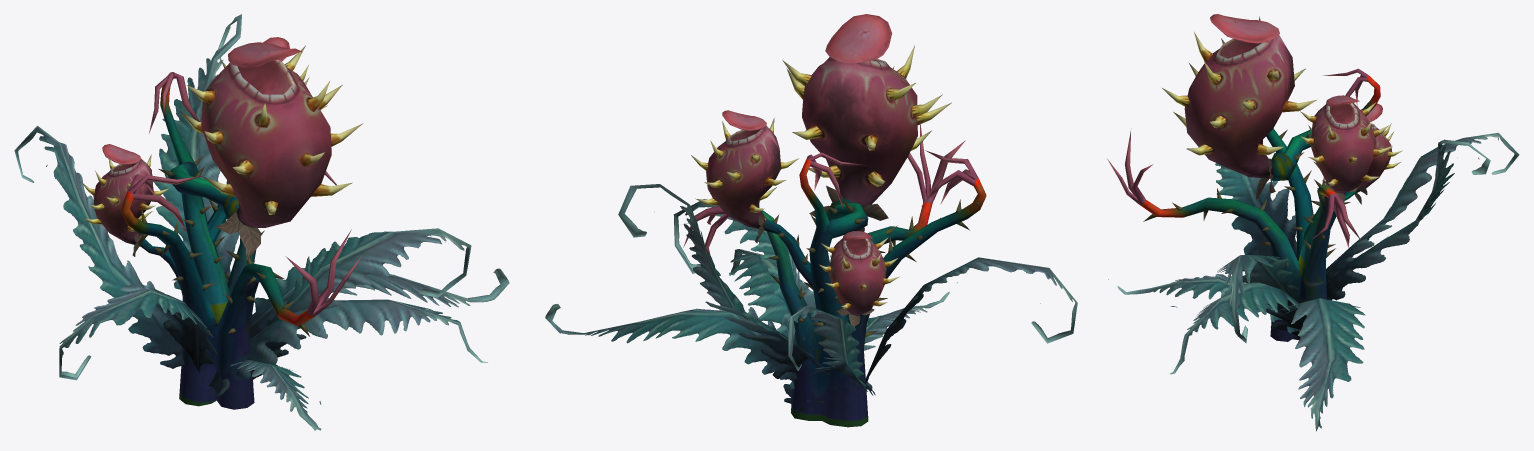
Rendered from Battle01_Demon flower_04.FBX.
3 renders of one model, left to right at view 1: azimuth 30°, elevation 25°; view 2: azimuth 150°, elevation 25°; view 3: azimuth 270°, elevation 25°, orthographic. The views are drawn at different scales.
Parts seen in each view (by area): view 1: Battle01_Demon flower_04_02, Battle01_Demon flower_04_01, Battle01_Demon flower_04_03; view 2: Battle01_Demon flower_04_02, Battle01_Demon flower_04_03, Battle01_Demon flower_04_01; view 3: Battle01_Demon flower_04_02, Battle01_Demon flower_04_03, Battle01_Demon flower_04_01.
Boxes of the visible parts, box(x1,y1,x2,y2) form: Battle01_Demon flower_04_02: box(14, 14, 509, 430); Battle01_Demon flower_04_01: box(116, 42, 362, 336); Battle01_Demon flower_04_03: box(81, 37, 327, 286); Battle01_Demon flower_04_02: box(545, 57, 1077, 427); Battle01_Demon flower_04_03: box(691, 110, 899, 326); Battle01_Demon flower_04_01: box(767, 14, 979, 337); Battle01_Demon flower_04_02: box(1107, 35, 1519, 431); Battle01_Demon flower_04_03: box(1300, 95, 1402, 214); Battle01_Demon flower_04_01: box(1143, 14, 1350, 266).
Bounding box in the file's own units: 4.42 × 3.22 × 3.66.
